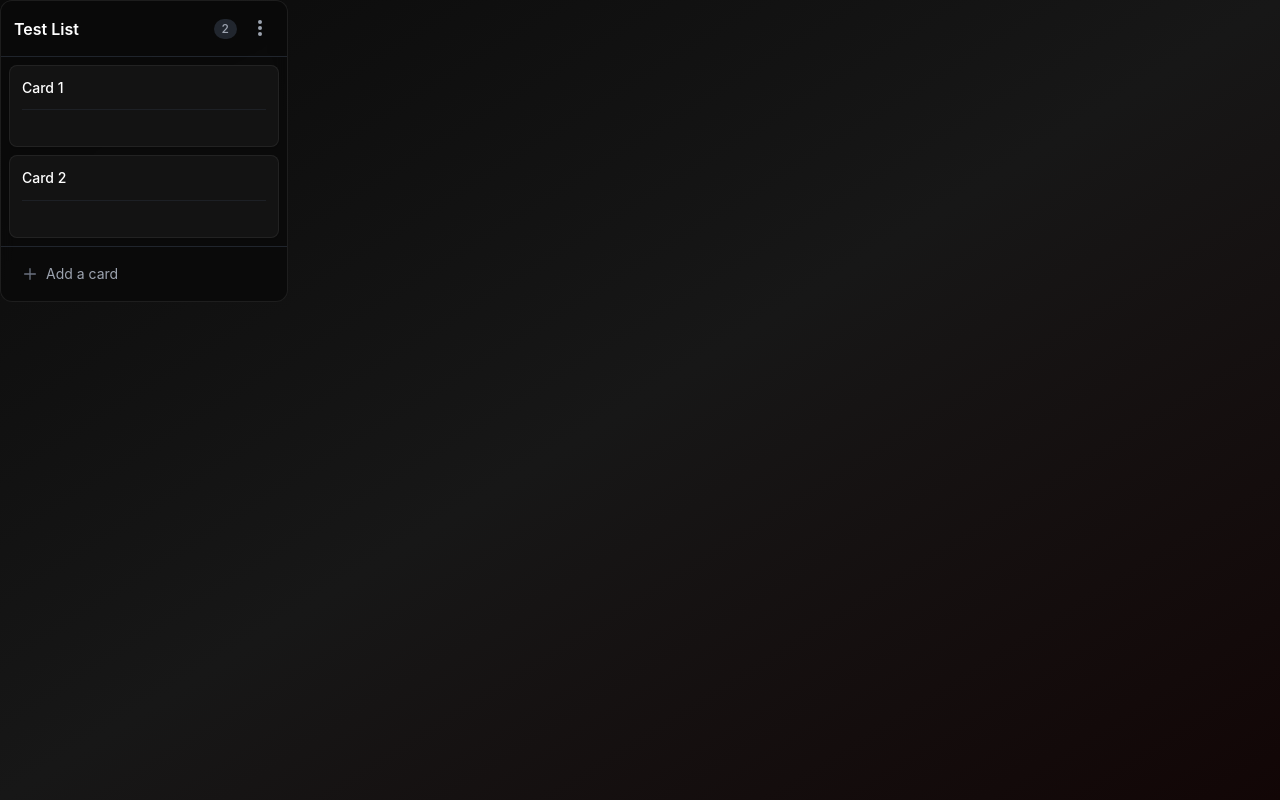
Test: ListColumn › should show add card form when clicking add button
Click the button "Add a card" at coordinates (82, 273), box [9,254,279,292]
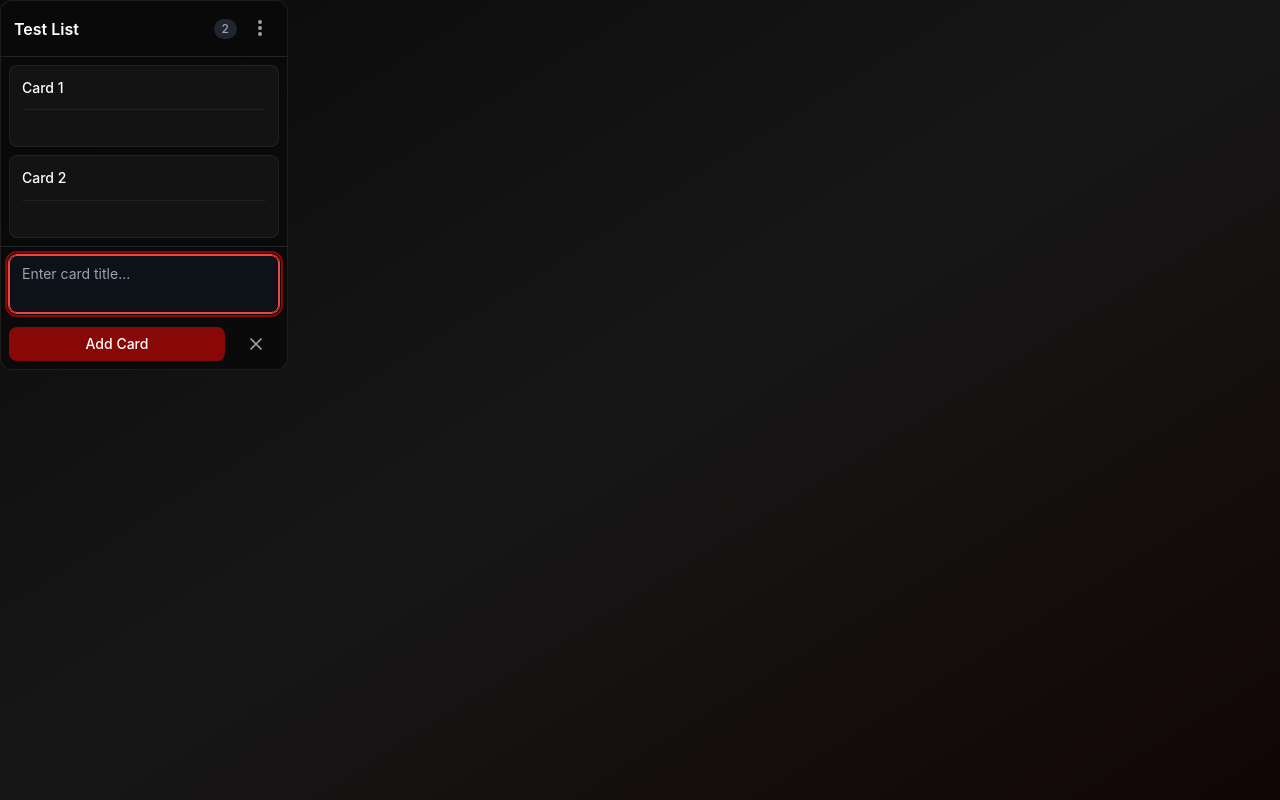
Check: the text box with placeholder "Enter card title..." is shown, box [9,254,279,312]
